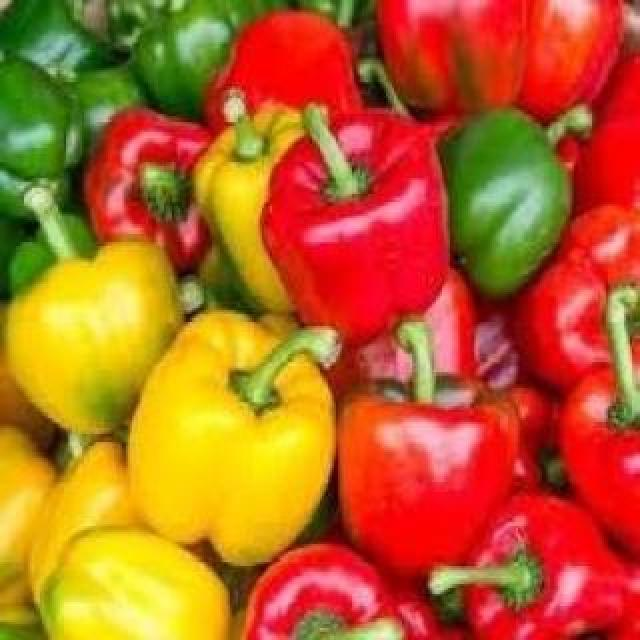bell_pepper: (135, 319, 338, 559), (331, 321, 511, 583), (3, 203, 183, 435), (269, 107, 451, 326), (431, 95, 603, 303), (449, 487, 639, 640), (373, 1, 627, 109), (91, 107, 220, 280), (243, 551, 433, 640)
